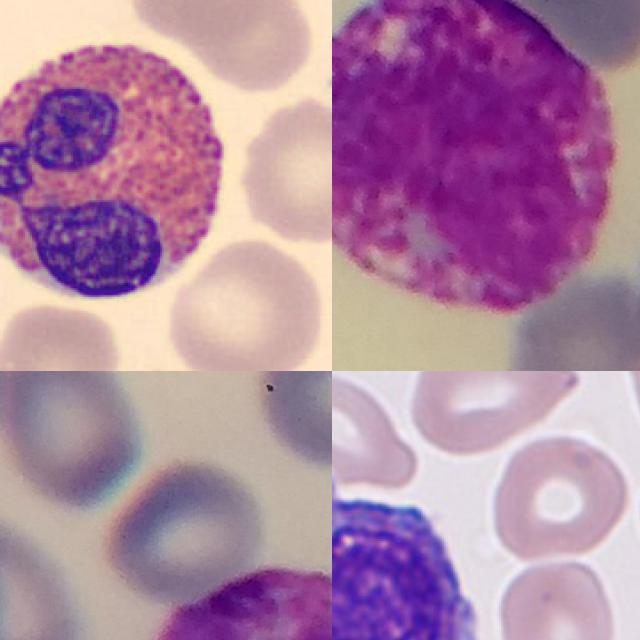Basophil: (332, 0, 619, 316)
Eosinophil: (0, 18, 243, 314)
Lymphocyte: (332, 466, 493, 640)
RBC: (163, 235, 328, 371), (487, 431, 631, 562), (403, 371, 586, 455), (234, 94, 332, 245), (183, 0, 316, 98), (488, 551, 623, 640), (0, 299, 122, 371), (126, 0, 273, 46), (622, 371, 640, 452)
